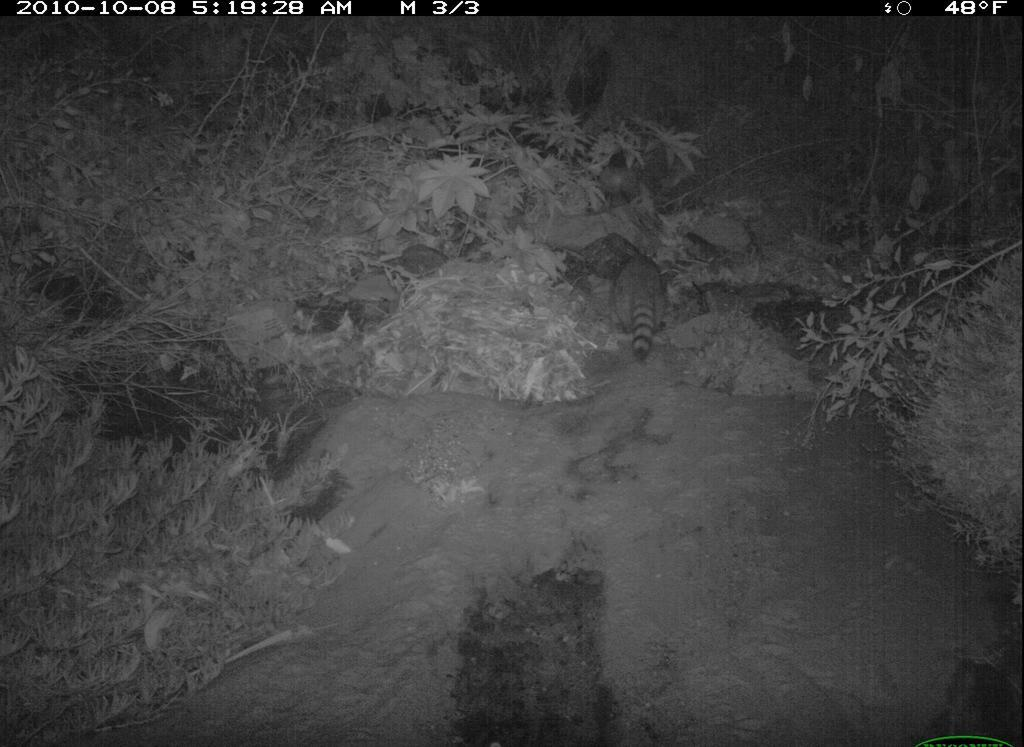raccoon: (602, 236, 683, 372)
